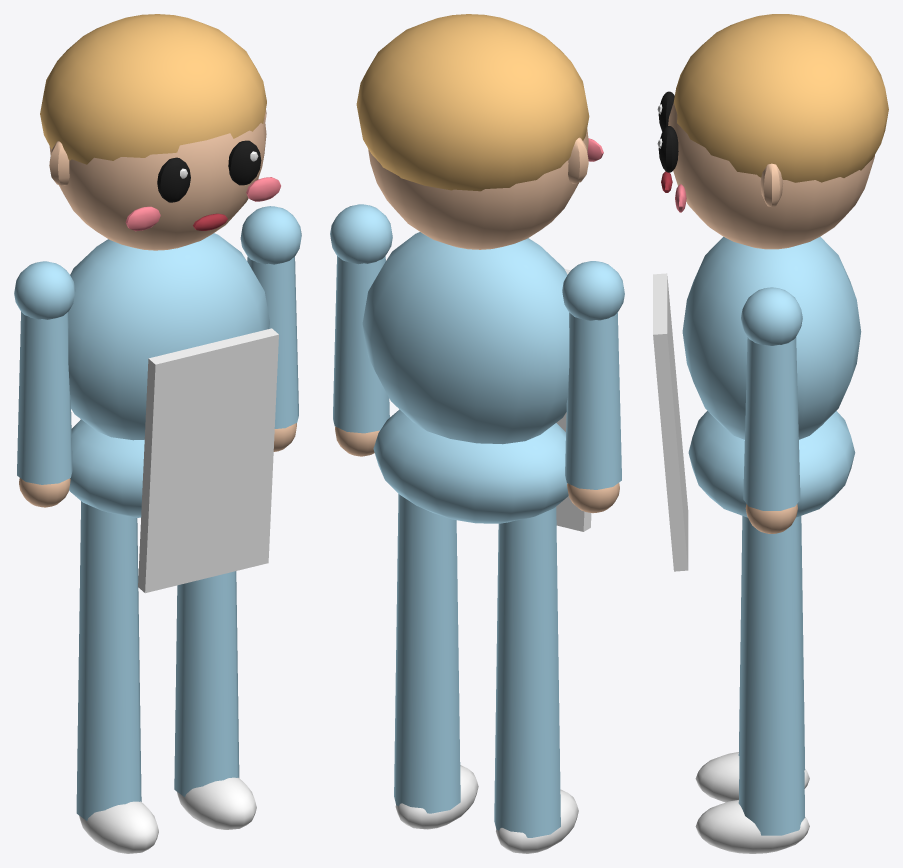
The model's file is homes_baby.glb.
The picture shows the model from 3 angles, left to right: view 1: azimuth 30°, elevation 25°; view 2: azimuth 150°, elevation 25°; view 3: azimuth 270°, elevation 25°; orthographic projection. The views are drawn at different scales.
Visible parts, largest first — view 1: Body.005, Leg_R.005, Leg_L.005, Arm_R.005, Arm_L.005; view 2: Body.005, Leg_R.005, Leg_L.005, Arm_R.005, Arm_L.005; view 3: Body.005, Leg_L.005, Arm_L.005, Leg_R.005.
Part boxes in pixels (box(x1,y1,x2,y2)): Body.005: box(40, 14, 280, 593); Leg_R.005: box(76, 501, 158, 853); Leg_L.005: box(174, 571, 256, 829); Arm_R.005: box(14, 261, 75, 507); Arm_L.005: box(240, 206, 301, 451); Body.005: box(356, 14, 603, 531); Leg_R.005: box(494, 507, 578, 853); Leg_L.005: box(394, 494, 478, 829); Arm_R.005: box(562, 261, 624, 513); Arm_L.005: box(330, 204, 392, 456); Body.005: box(653, 14, 888, 571); Leg_L.005: box(695, 516, 809, 853); Arm_L.005: box(741, 287, 802, 533); Leg_R.005: box(695, 516, 809, 802).
Bounding box in the file's own units: 0.3022 × 0.8223 × 0.2201.
